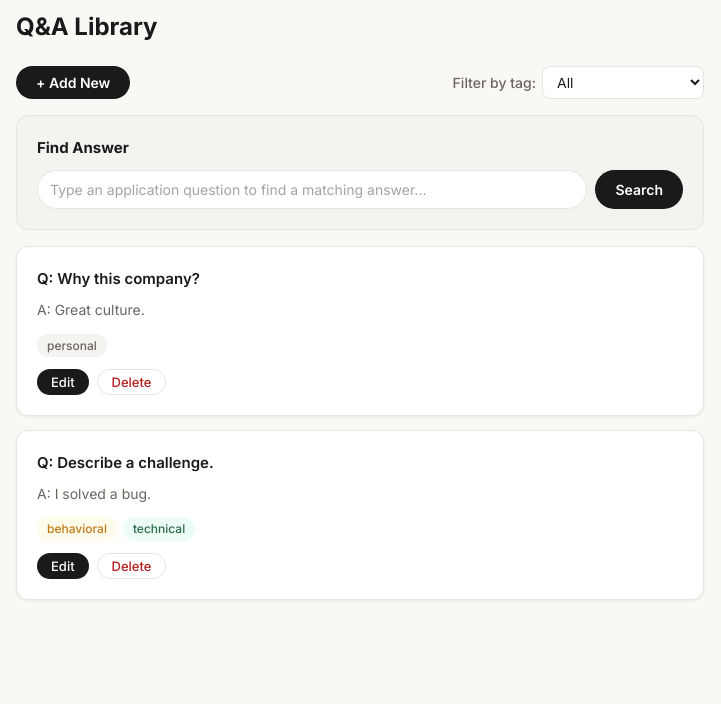
QALibrary › shows add form when "Add New" is clicked
The width and height of the screenshot is (721, 704).
Expected: the text "Q: Why this company?" is shown, [37,269,200,288]
Click the button "+ Add New": (73, 83) [16,66,130,99]
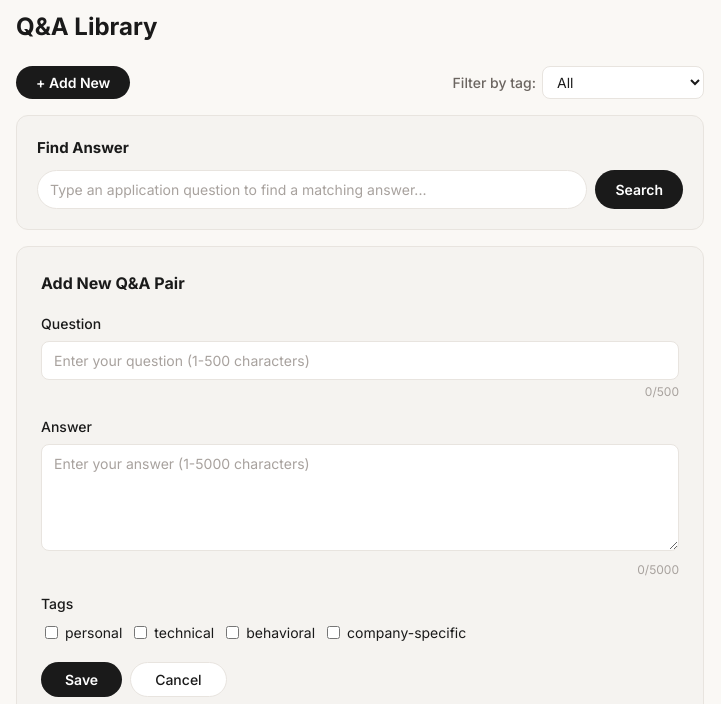
Result: the heading "Add New Q&A Pair" is shown at [41,273,185,293]
